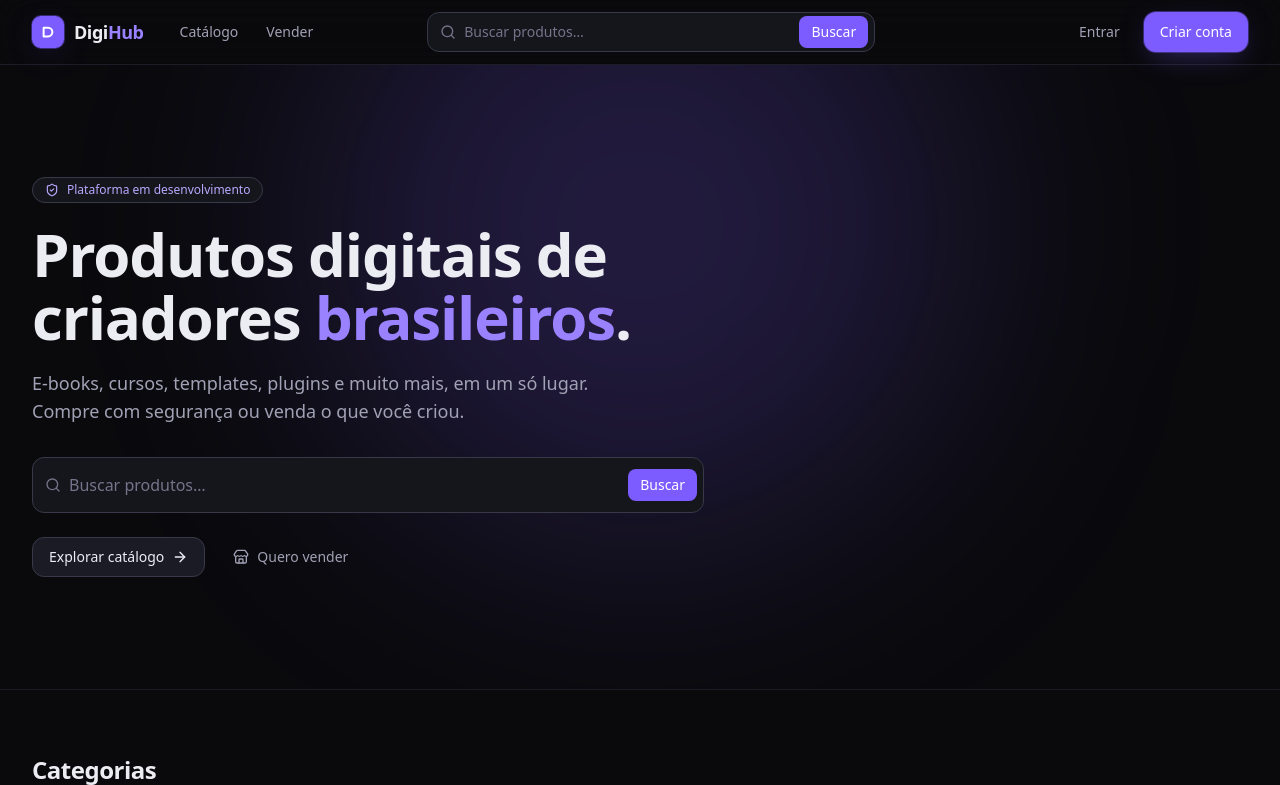
rotas públicas › busca navega para o catálogo com o termo e mostra "sem resultados"
The image size is (1280, 785).
Type "  planilha  " into the 1st search field labelled "Buscar produtos" at (628, 32), box [464,22,791,42]
Then press Enter
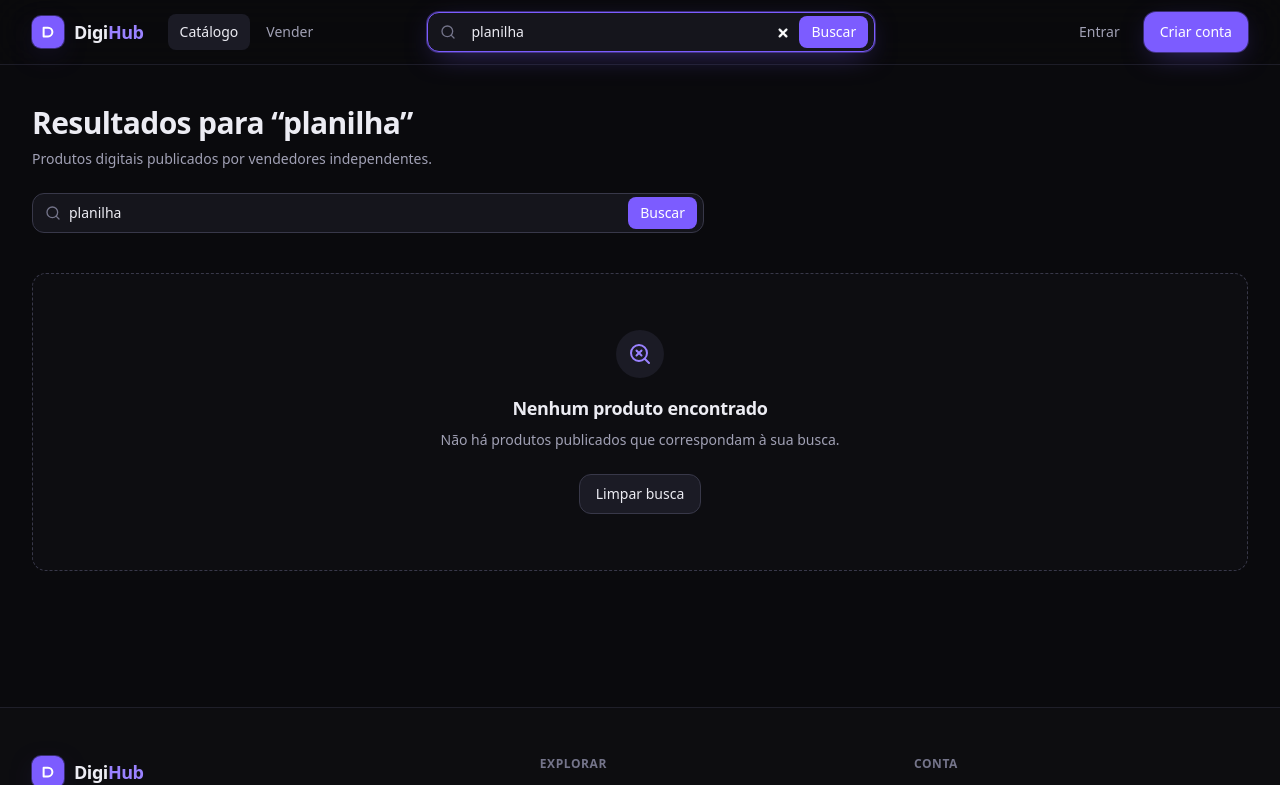
expect the heading "Nenhum produto encontrado" is shown: met, box [512,394,768,422]
